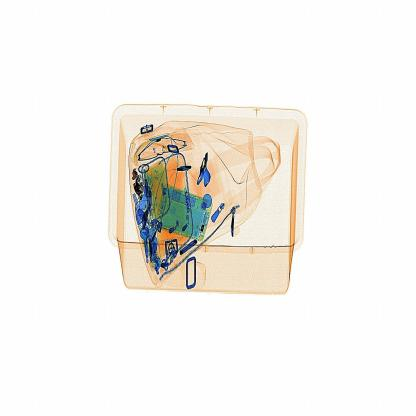wrench: (197, 145, 222, 198)
